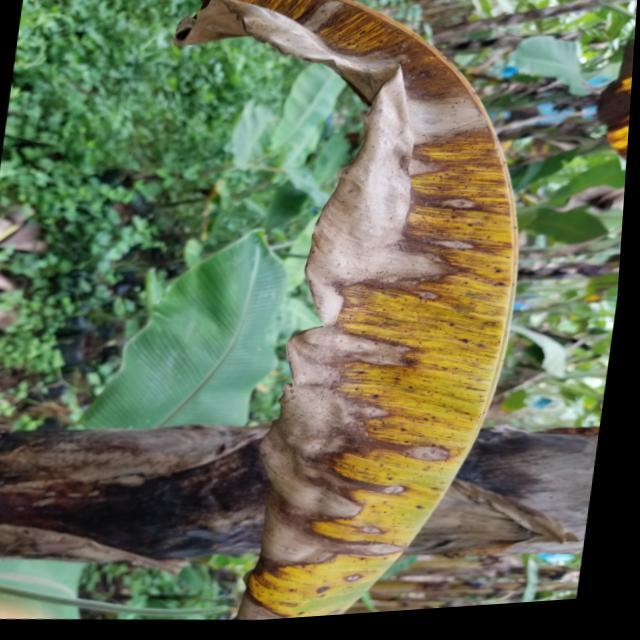Early_rust: (185, 0, 516, 626), (585, 58, 638, 187)
